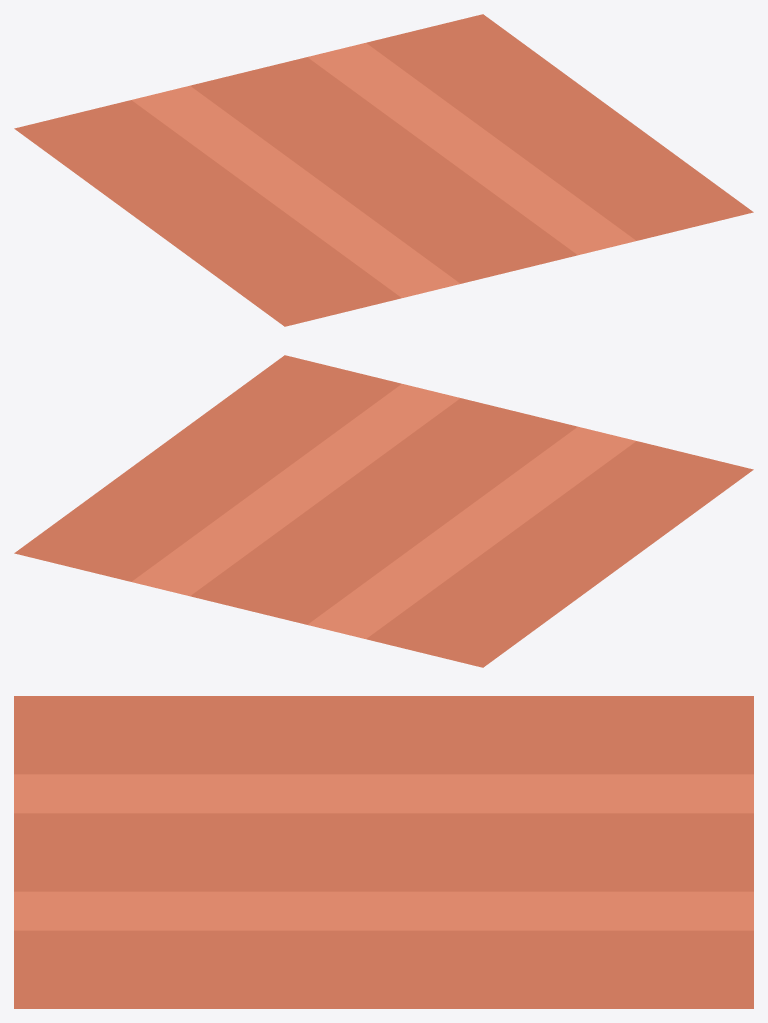
The model's file is terrain_roadStraight.glb.
3 views of the same model, one above another, from view 1: azimuth 30°, elevation 25°; view 2: azimuth 150°, elevation 25°; view 3: azimuth 270°, elevation 25° (orthographic). The views are drawn at different scales.
Visible parts, largest first — view 1: terrain_roadStraight; view 2: terrain_roadStraight; view 3: terrain_roadStraight.
Part boxes in pixels (x1,y1,x2,y2): terrain_roadStraight: (14,14,753,326); terrain_roadStraight: (14,355,753,667); terrain_roadStraight: (14,696,753,1008).
Size of the model in its own units: 1 by 0 by 1.
